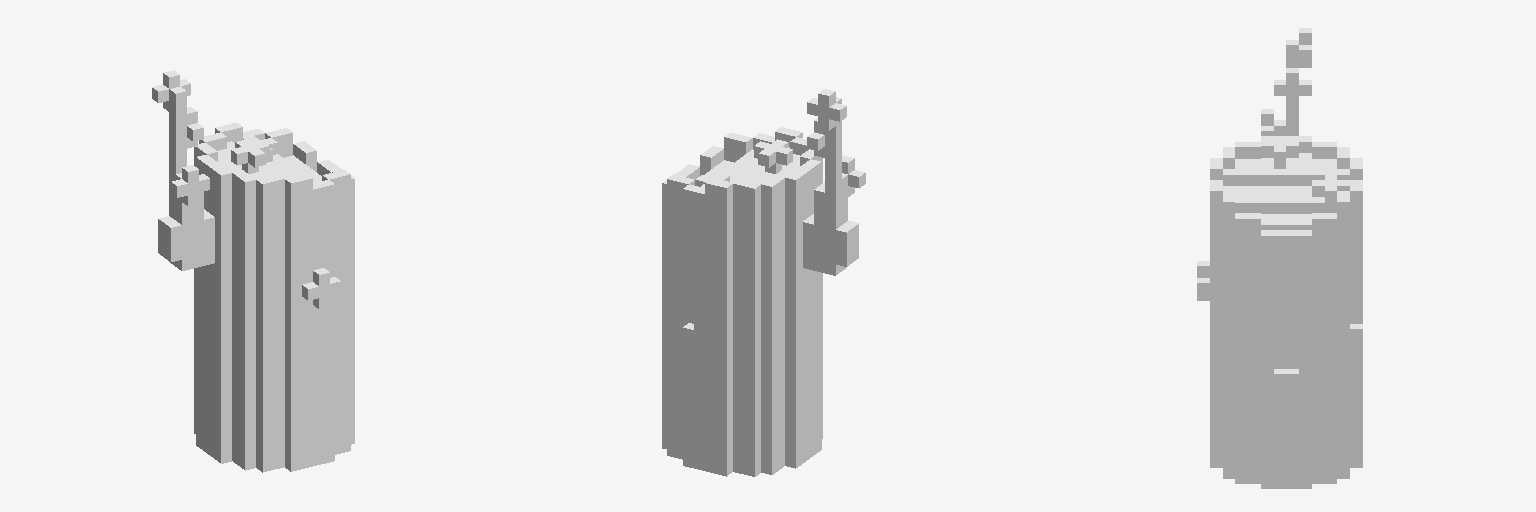
File: AlienPlant1.obj
3 renders of one model, left to right at view 1: azimuth 30°, elevation 25°; view 2: azimuth 150°, elevation 25°; view 3: azimuth 270°, elevation 25°, orthographic.
Parts seen in each view (by area): view 1: object 1; view 2: object 1; view 3: object 1.
Boxes of the visible parts, <box> form: object 1: <box>152,70,354,472</box>; object 1: <box>662,89,865,476</box>; object 1: <box>1197,28,1362,488</box>.
Bounding box in the file's own units: 1.6 × 3.3 × 1.3.